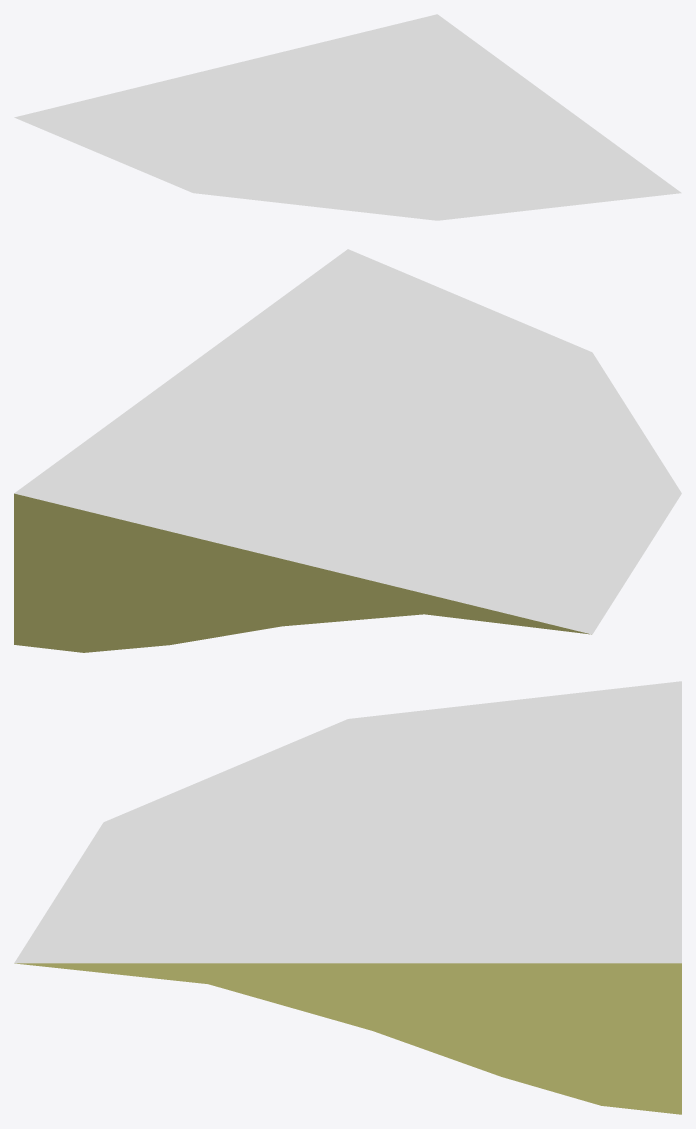
Rendered from Ceiling_Curve_Outer_4x4.glb.
3 views of the same model, one above another, from view 1: azimuth 30°, elevation 25°; view 2: azimuth 150°, elevation 25°; view 3: azimuth 270°, elevation 25° (orthographic). The views are drawn at different scales.
Parts seen in each view (by area): view 1: Ceiling_Curve_Outer_4x4; view 2: Ceiling_Curve_Outer_4x4; view 3: Ceiling_Curve_Outer_4x4.
Part boxes in pixels (box(x1,y1,x2,y2)): Ceiling_Curve_Outer_4x4: box(14, 14, 681, 220); Ceiling_Curve_Outer_4x4: box(14, 249, 681, 652); Ceiling_Curve_Outer_4x4: box(14, 681, 681, 1114).
Bounding box in the file's own units: 400 × 100 × 400.
